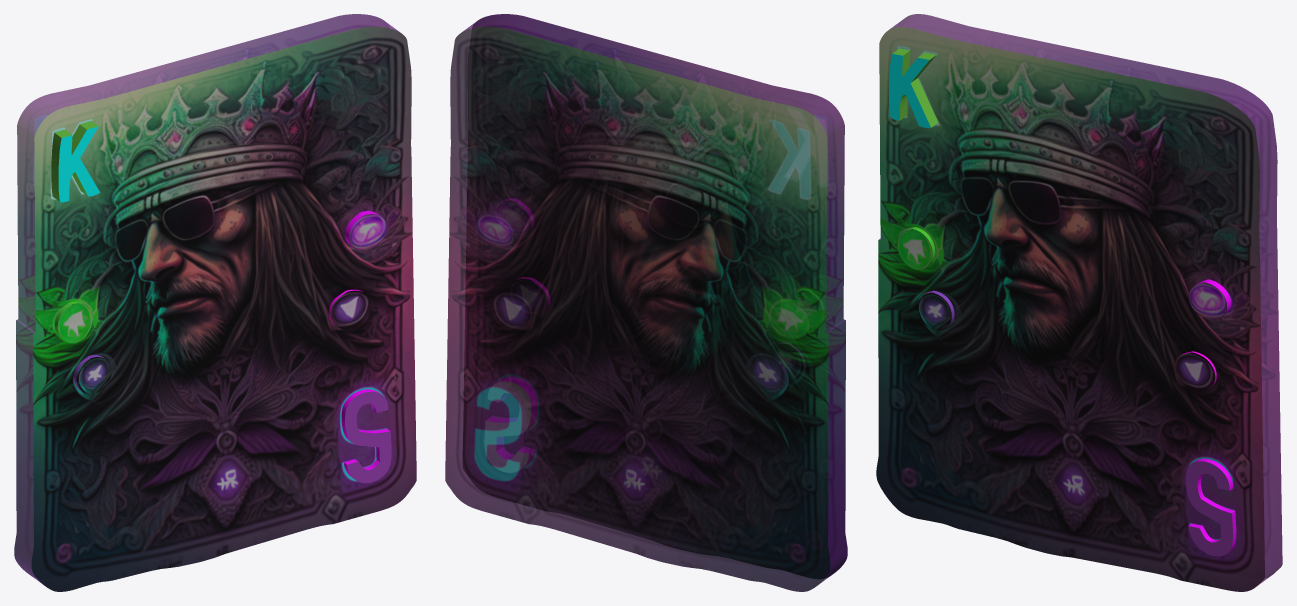
The model's file is card.glb.
3 renders of one model, left to right at view 1: azimuth 30°, elevation 25°; view 2: azimuth 150°, elevation 25°; view 3: azimuth 330°, elevation 25°, orthographic.
Parts seen in each view (by area): view 1: Camada_1_0, Camada_2_13, Camada_3_3, Camada_5_7, Camada_6.001_9, Camada_7_11, Camada_4_5; view 2: Camada_1_0, Camada_2_13, Camada_3_3, Camada_5_7, Camada_6.001_9, Camada_7_11, Camada_4_5; view 3: Camada_1_0, Camada_2_13, Camada_3_3, Camada_5_7, Camada_6.001_9, Camada_7_11, Camada_4_5.
Boxes of the visible parts, box(x1,y1,x2,y2) form: Camada_1_0: box(14, 14, 416, 591); Camada_2_13: box(341, 389, 391, 483); Camada_3_3: box(51, 121, 100, 202); Camada_5_7: box(328, 289, 370, 329); Camada_6.001_9: box(345, 211, 386, 250); Camada_7_11: box(54, 301, 92, 343); Camada_4_5: box(74, 355, 111, 393); Camada_1_0: box(445, 14, 847, 591); Camada_2_13: box(484, 377, 537, 472); Camada_3_3: box(786, 108, 827, 184); Camada_5_7: box(508, 277, 550, 316); Camada_6.001_9: box(493, 198, 533, 236); Camada_7_11: box(788, 289, 824, 329); Camada_4_5: box(769, 342, 804, 380); Camada_1_0: box(876, 14, 1282, 591); Camada_2_13: box(1185, 458, 1236, 556); Camada_3_3: box(889, 48, 938, 127); Camada_5_7: box(1174, 351, 1216, 391); Camada_6.001_9: box(1188, 279, 1230, 319); Camada_7_11: box(897, 227, 935, 270); Camada_4_5: box(916, 290, 954, 330).
Size of the model in its own units: 709 by 872 by 78.58.
Materials: 21 (10 with a texture image).
